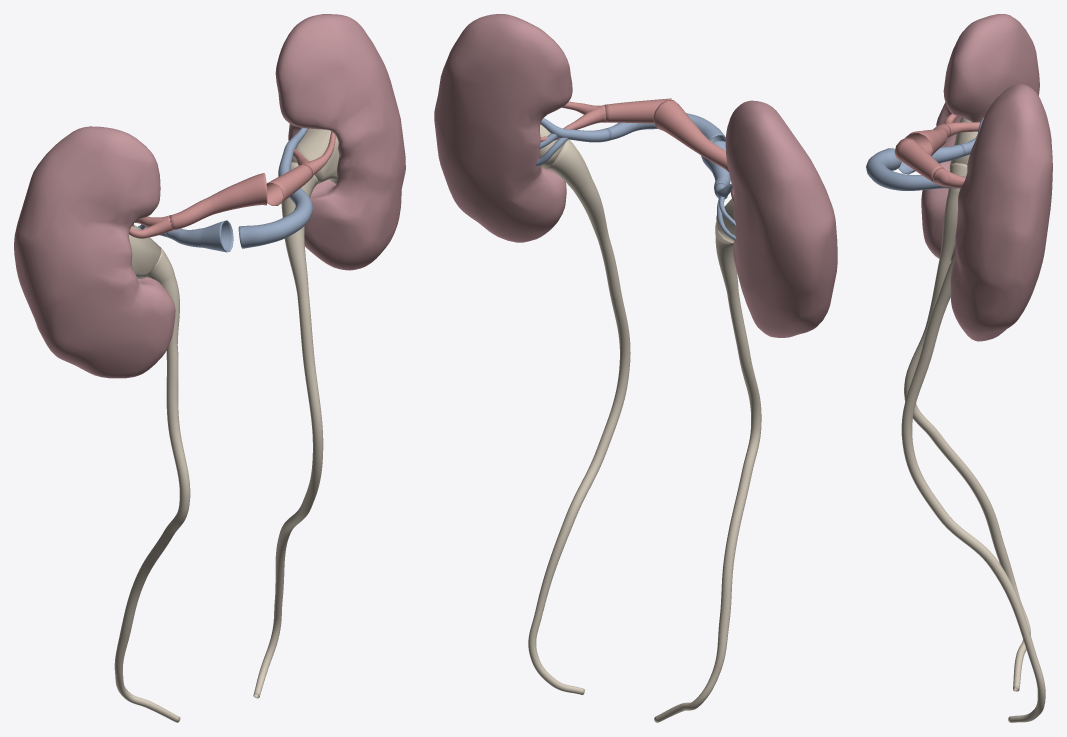
The picture shows the model from 3 angles, left to right: view 1: azimuth 30°, elevation 25°; view 2: azimuth 150°, elevation 25°; view 3: azimuth 270°, elevation 25°; orthographic projection.
Parts seen in each view (by area): view 1: 右肾皮质区域 · 示意层 | Kidney.r illustrative cortex, 左肾皮质区域 · 示意层 | Kidney.l illustrative cortex, 左输尿管 | Ureter.l, 右输尿管 | Ureter.r, Right renal artery, Left renal vein, Right renal vein, 左肾盂 | Renal pelvis.l, Left renal artery, 右肾盂 | Renal pelvis.r; view 2: 左肾皮质区域 · 示意层 | Kidney.l illustrative cortex, 右肾皮质区域 · 示意层 | Kidney.r illustrative cortex, 左输尿管 | Ureter.l, 右输尿管 | Ureter.r, Right renal artery, Intrarenal veins of left kidney, Left renal artery, Left renal vein; view 3: 左肾皮质区域 · 示意层 | Kidney.l illustrative cortex, 右肾皮质区域 · 示意层 | Kidney.r illustrative cortex, 左输尿管 | Ureter.l, 右输尿管 | Ureter.r, Left renal vein, Left renal artery, Right renal artery, Right renal vein, 右肾盂 | Renal pelvis.r, Anterior branch of renal artery.l, Posterior branch of renal artery.r.
Part boxes in pixels (x1,y1,x2,y2): 右肾皮质区域 · 示意层 | Kidney.r illustrative cortex: [14, 126, 175, 378]; 左肾皮质区域 · 示意层 | Kidney.l illustrative cortex: [275, 14, 405, 270]; 左输尿管 | Ureter.l: [253, 162, 323, 698]; 右输尿管 | Ureter.r: [114, 248, 190, 722]; Right renal artery: [169, 173, 267, 230]; Left renal vein: [238, 188, 312, 248]; Right renal vein: [166, 220, 233, 252]; 左肾盂 | Renal pelvis.l: [291, 128, 339, 183]; Left renal artery: [266, 164, 313, 205]; 右肾盂 | Renal pelvis.r: [128, 225, 161, 278]; 左肾皮质区域 · 示意层 | Kidney.l illustrative cortex: [434, 14, 572, 242]; 右肾皮质区域 · 示意层 | Kidney.r illustrative cortex: [725, 100, 837, 337]; 左输尿管 | Ureter.l: [528, 139, 630, 694]; 右输尿管 | Ureter.r: [654, 222, 761, 722]; Right renal artery: [653, 100, 728, 171]; Intrarenal veins of left kidney: [535, 118, 611, 166]; Left renal artery: [604, 98, 671, 123]; Left renal vein: [606, 113, 725, 141]; 左肾皮质区域 · 示意层 | Kidney.l illustrative cortex: [950, 84, 1052, 341]; 右肾皮质区域 · 示意层 | Kidney.r illustrative cortex: [921, 14, 1039, 261]; 左输尿管 | Ureter.l: [901, 251, 1045, 722]; 右输尿管 | Ureter.r: [904, 163, 1030, 691]; Left renal vein: [866, 148, 956, 190]; Left renal artery: [894, 137, 943, 183]; Right renal artery: [905, 124, 951, 156]; Right renal vein: [898, 144, 964, 174]; 右肾盂 | Renal pelvis.r: [949, 117, 977, 166]; Anterior branch of renal artery.l: [933, 167, 963, 187]; Posterior branch of renal artery.r: [943, 122, 980, 137].
Bounding box in the file's own units: 1.21 × 2 × 0.5027.
